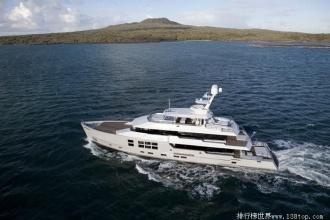yacht: (79, 85, 288, 173)
